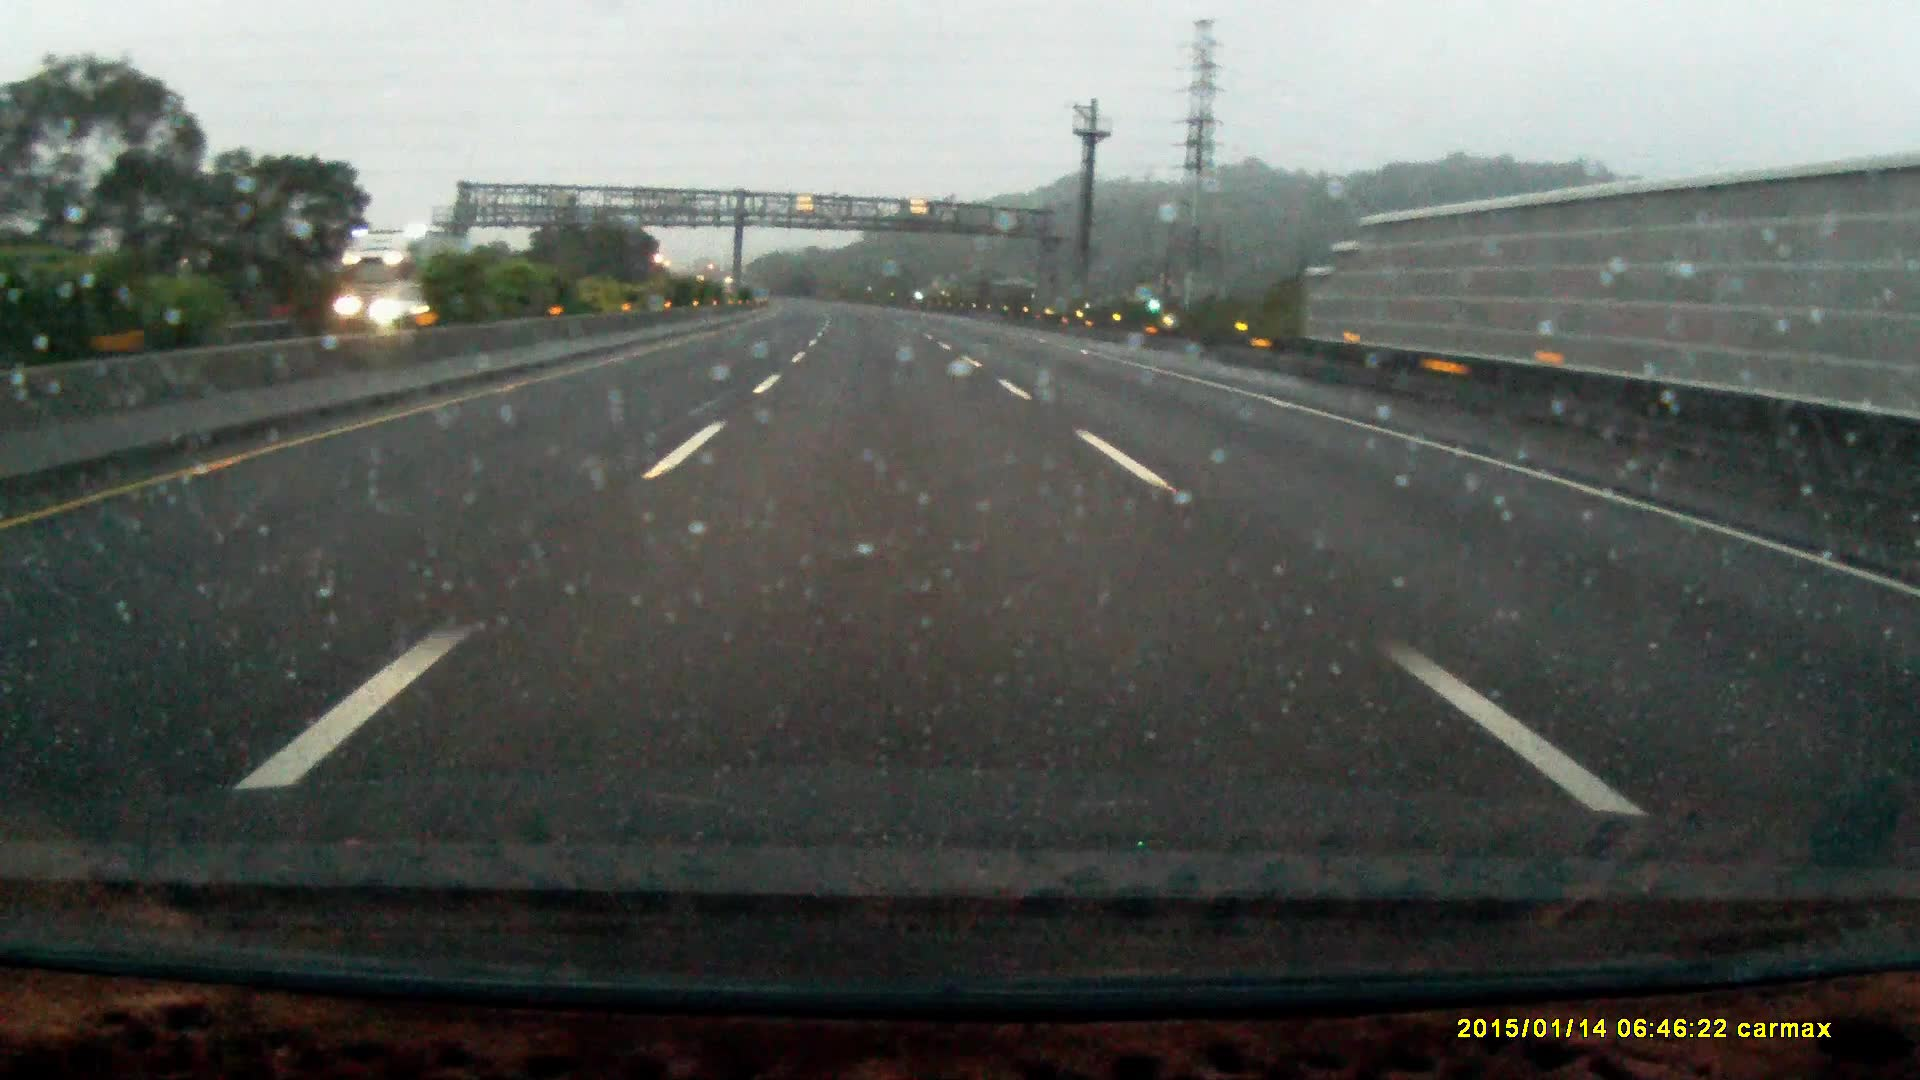vehicle: (338, 232, 469, 326), (368, 280, 455, 324)
